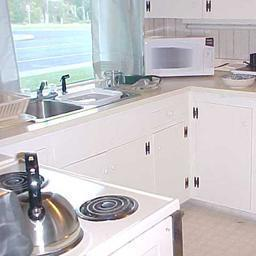Lavaplatos: (15, 77, 93, 126), (51, 69, 140, 107)
Ventana: (3, 6, 119, 76)
